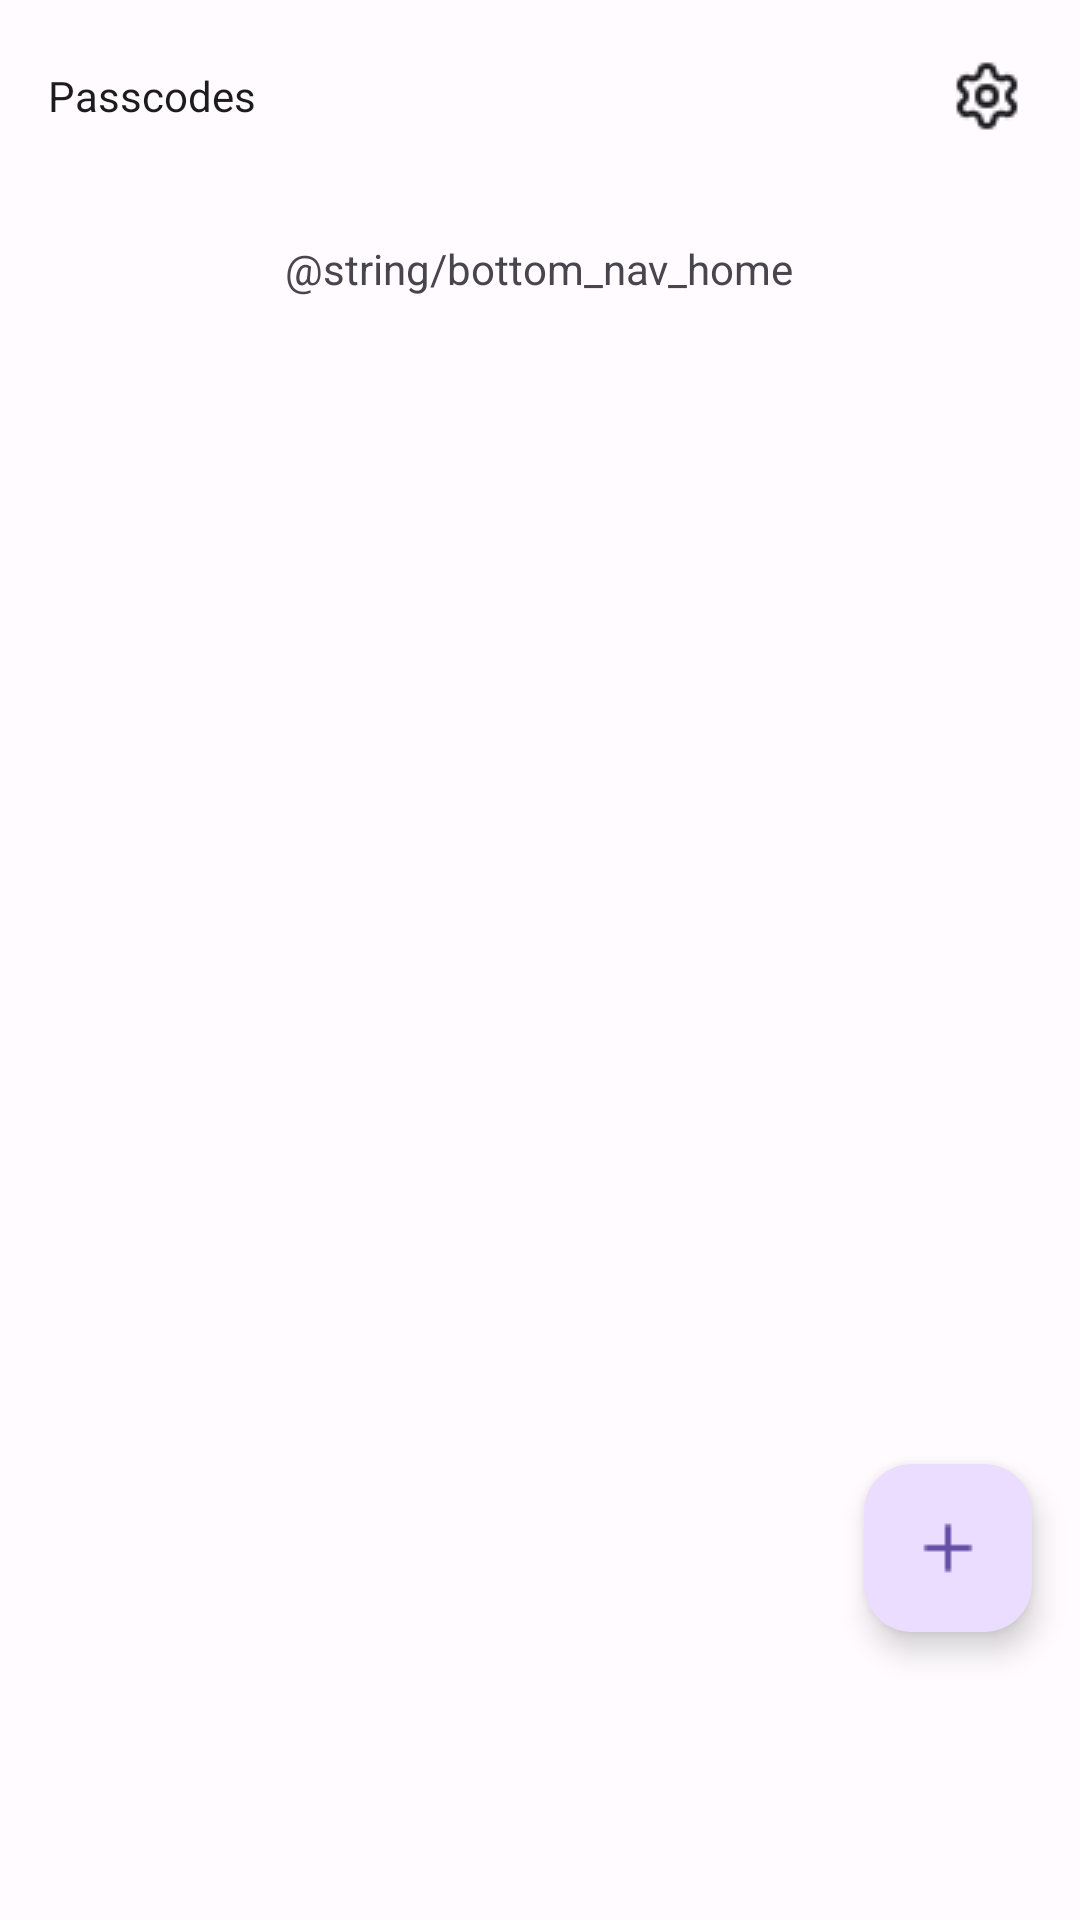

Icons on this 1080px x 1920px Android screen, each with the point to tap as (x,y):
plus: (948,1548)
settings: (987,96)
